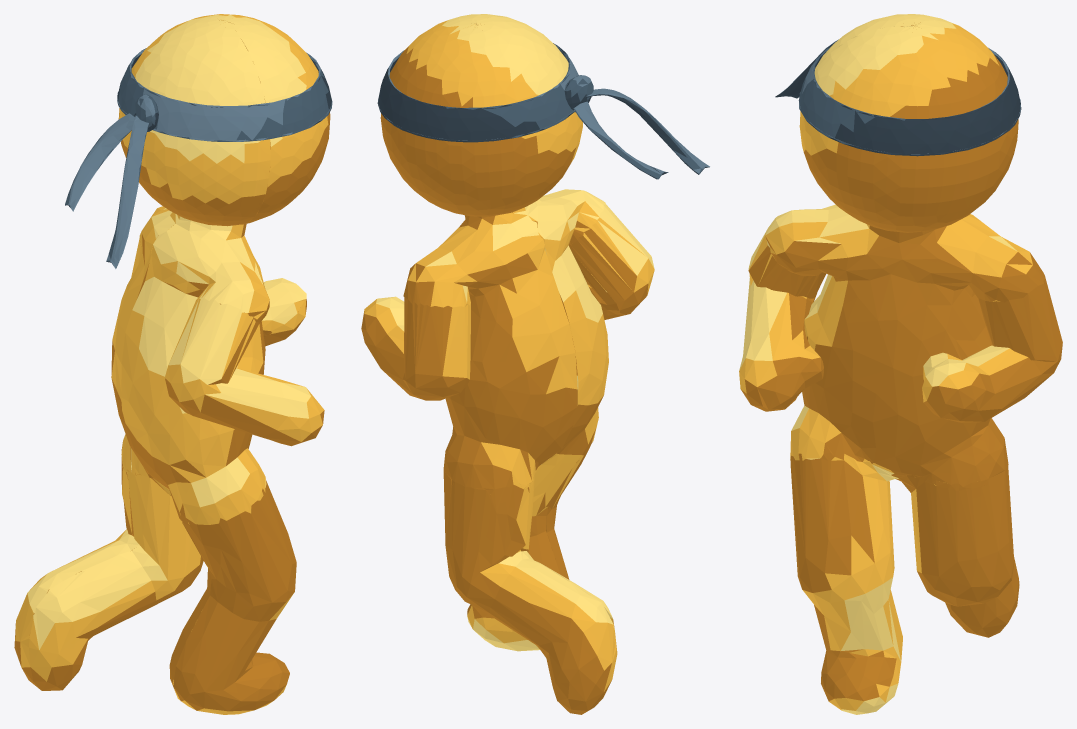
Rendered from Ninja_Jog5_R.gltf.
3 views of the same model, side by side, from view 1: azimuth 30°, elevation 25°; view 2: azimuth 150°, elevation 25°; view 3: azimuth 270°, elevation 25° (orthographic). The views are drawn at different scales.
Parts seen in each view (by area): view 1: Ninja_Jog5_R_baked; view 2: Ninja_Jog5_R_baked; view 3: Ninja_Jog5_R_baked.
Part boxes in pixels (x1,y1,x2,y2): Ninja_Jog5_R_baked: (14, 14, 332, 714); Ninja_Jog5_R_baked: (361, 14, 709, 714); Ninja_Jog5_R_baked: (739, 14, 1062, 714).
Bounding box in the file's own units: 0.4306 × 1 × 0.4269.
